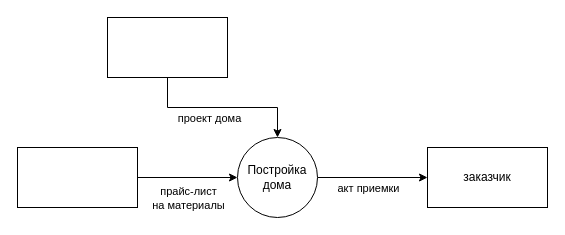
The diagram is 565 pixels wide and 235 high, and some of its shapes have lost their labels. Here are the shapes that lost their labels. From the top down, the centre of each, then its label:
At point 167,47: "архитектор".
At point 77,177: "магазин".
